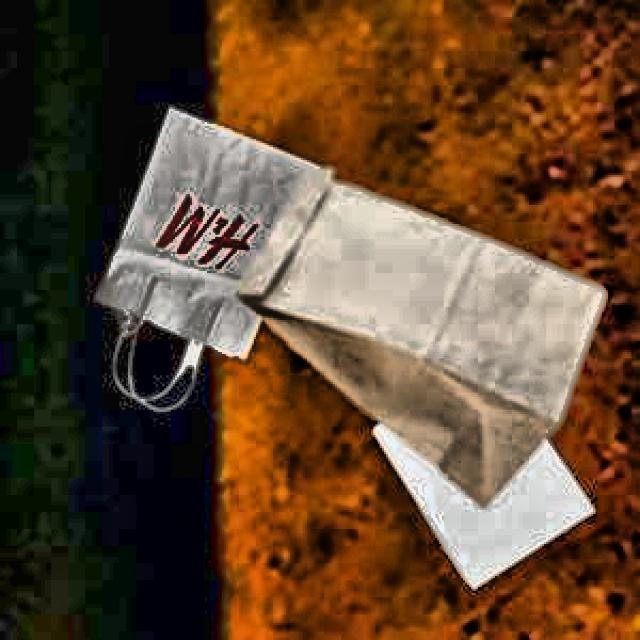Paper-bag: (231, 156, 610, 508), (101, 119, 330, 414), (367, 354, 614, 621)
